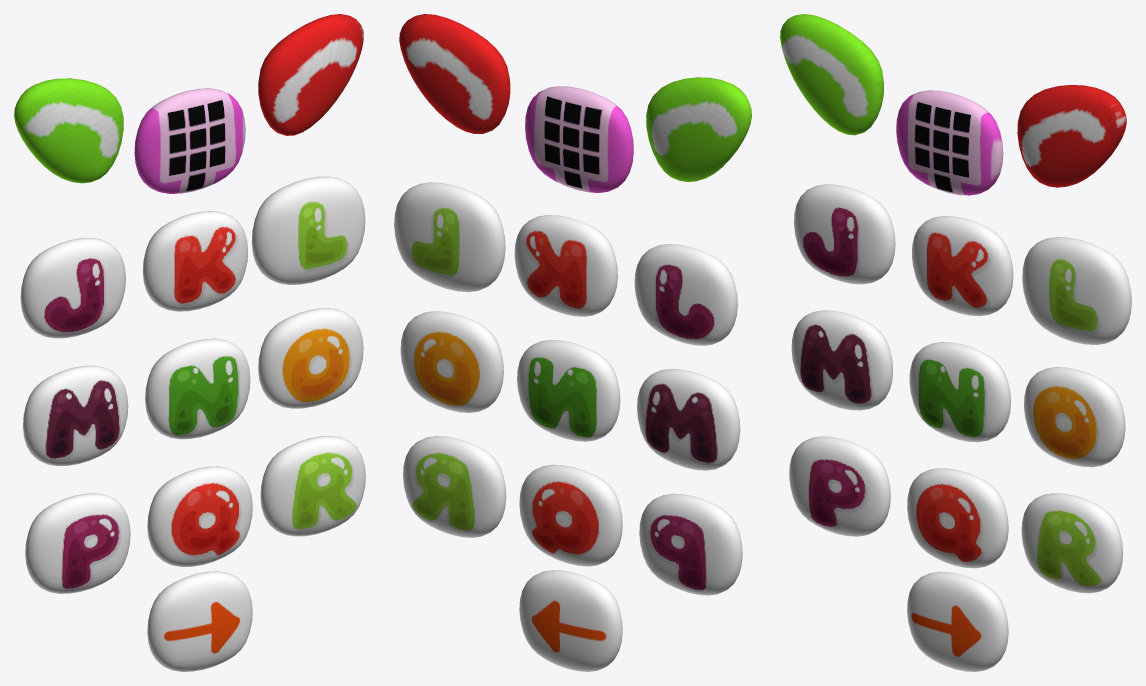
Rendered from Alphabet Buttons.fbx.
3 views of the same model, side by side, from view 1: azimuth 30°, elevation 25°; view 2: azimuth 150°, elevation 25°; view 3: azimuth 330°, elevation 25° (orthographic).
Parts seen in each view (by area): view 1: JtoR, Button; view 2: JtoR, Button; view 3: JtoR, Button.
Part boxes in pixels (left/top/right/bottom): JtoR: left=20, top=176, right=365, bottom=593; Button: left=14, top=14, right=363, bottom=671; JtoR: left=394, top=182, right=742, bottom=595; Button: left=399, top=14, right=751, bottom=671; JtoR: left=789, top=184, right=1131, bottom=593; Button: left=780, top=14, right=1126, bottom=671.
Bounding box in the file's own units: 172 × 292 × 21.29.
Materials: 1 (1 with a texture image).
